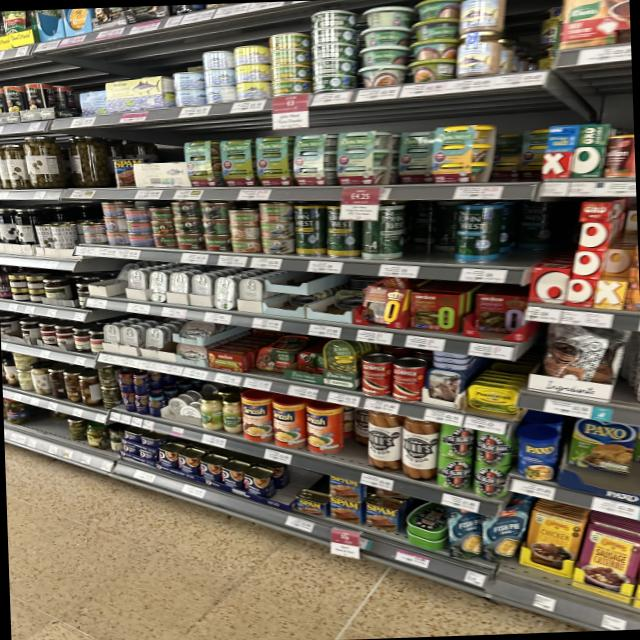olives: (22, 134, 70, 192), (66, 133, 114, 188), (4, 143, 27, 191), (15, 207, 43, 243), (0, 145, 16, 190), (53, 222, 75, 254), (35, 224, 57, 252), (0, 206, 16, 243)
